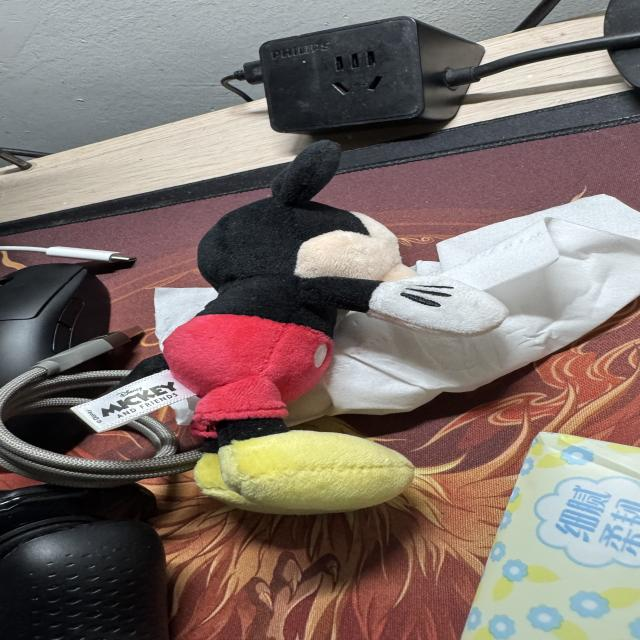mickey: (123, 141, 507, 513)
tissue: (287, 196, 639, 424), (462, 433, 639, 639)
